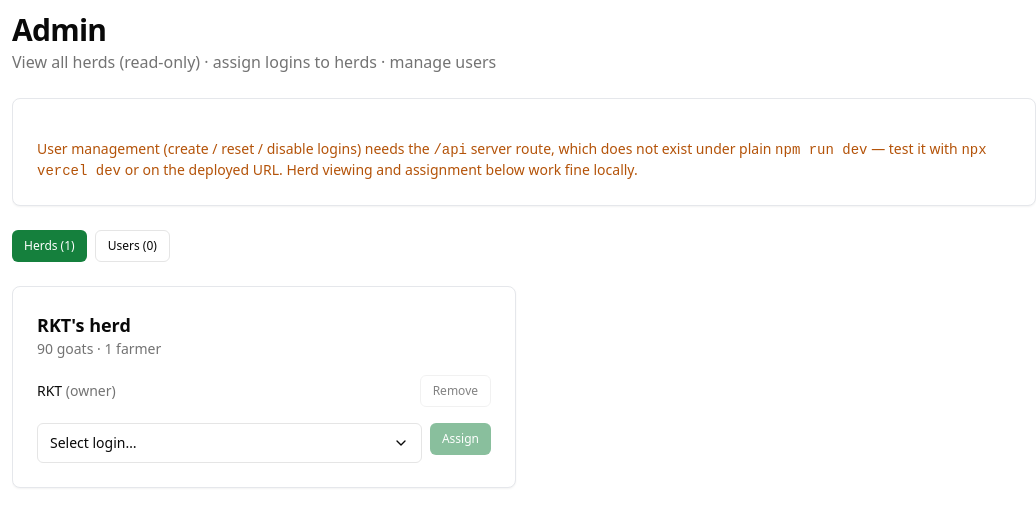
Test case: AdminPage herds tab › degrades gracefully when /api is down: herds still load
Expected: the heading "RKT's herd" is shown, [37,313,131,337]
Expected: the text "/api" is shown, [433,142,467,158]
Click the button "Users (0)" at (132,246), box [95,230,170,262]
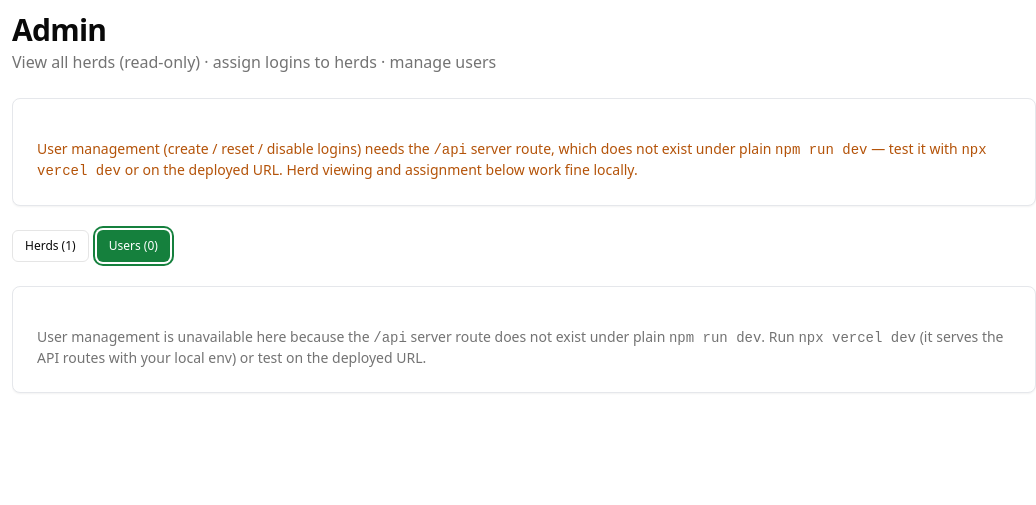
Expected: the text "Herd viewing and assignment below" is shown, [121,160,638,179]
Expected: the text "User management is unavailable here" is shown, [37,327,373,346]
